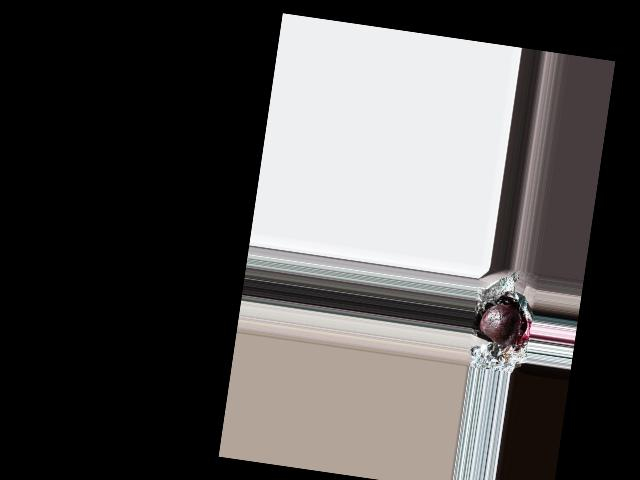beet: (477, 300, 522, 348)
